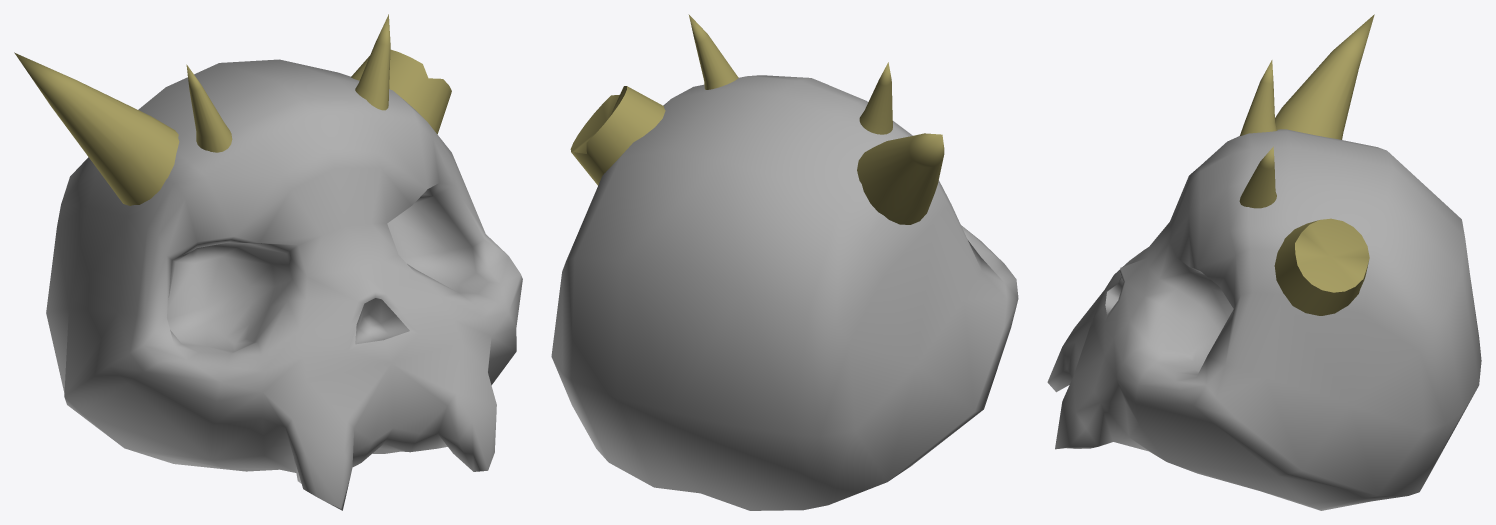
File: SM_Ressource_P1_Wid.fbx
The picture shows the model from 3 angles, left to right: view 1: azimuth 30°, elevation 25°; view 2: azimuth 150°, elevation 25°; view 3: azimuth 270°, elevation 25°; orthographic projection. The views are drawn at different scales.
Parts seen in each view (by area): view 1: SM_Ressource_p1; view 2: SM_Ressource_p1; view 3: SM_Ressource_p1.
Part boxes in pixels (x1,y1,x2,y2): SM_Ressource_p1: (14,14,522,510); SM_Ressource_p1: (551,14,1018,510); SM_Ressource_p1: (1047,14,1481,510).
Size of the model in its own units: 94.45 by 91.88 by 96.08.
